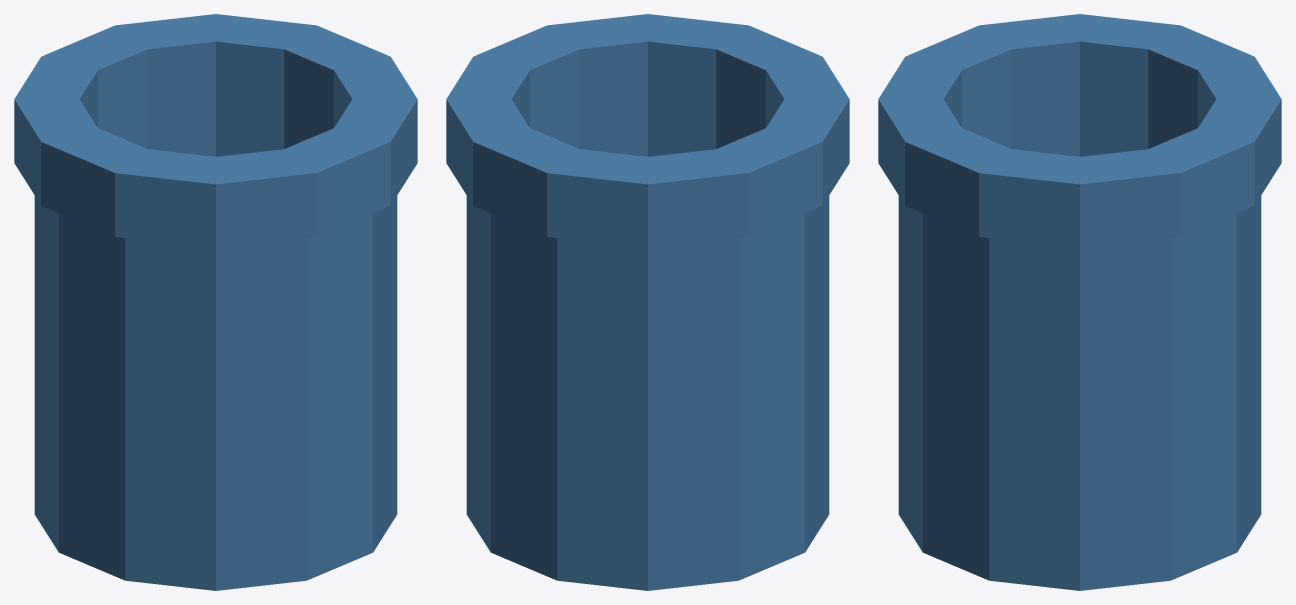
The model's file is O_enviroment_MetalPipe_End1.fbx.
3 views of the same model, side by side, from view 1: azimuth 30°, elevation 25°; view 2: azimuth 150°, elevation 25°; view 3: azimuth 270°, elevation 25° (orthographic).
Parts seen in each view (by area): view 1: pCylinder4; view 2: pCylinder4; view 3: pCylinder4.
Part boxes in pixels (x1,y1,x2,y2): pCylinder4: (14,14,417,590); pCylinder4: (446,14,849,590); pCylinder4: (878,14,1281,590).
Bounding box in the file's own units: 1.3 × 1.48 × 1.3.
